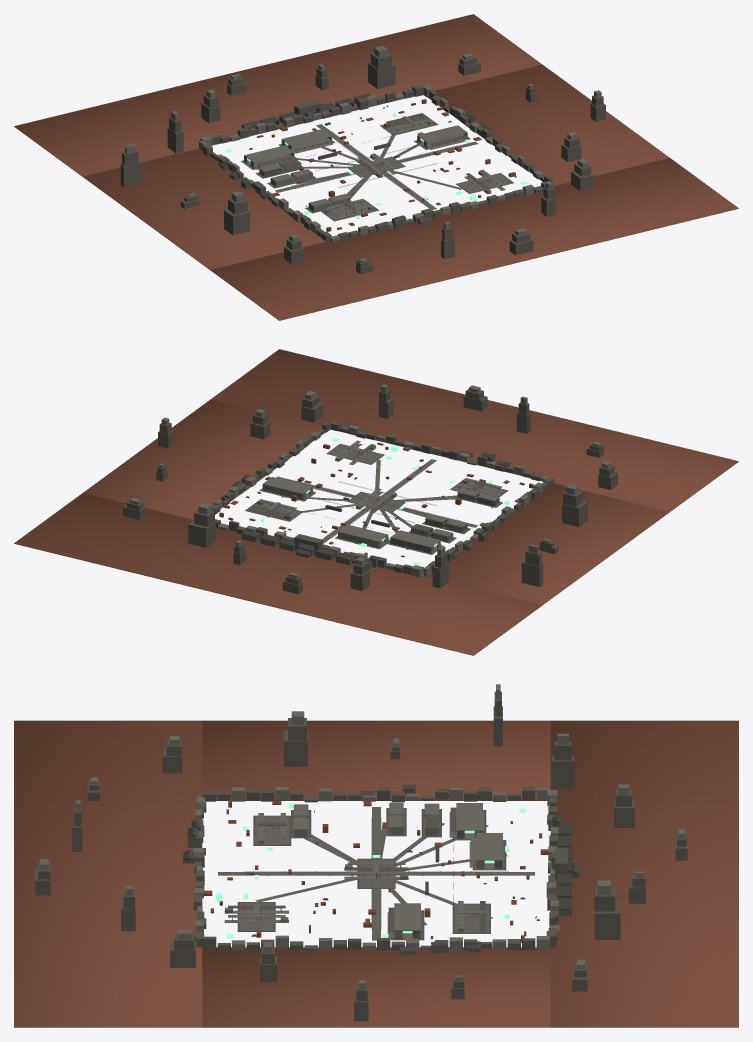
File: haieki-lod1.glb
3 renders of one model, top to bottom at view 1: azimuth 30°, elevation 25°; view 2: azimuth 150°, elevation 25°; view 3: azimuth 270°, elevation 25°, orthographic. The views are drawn at different scales.
Visible parts, largest first — view 1: HB_haieki_LOD1_terrain, HB_haieki_LOD1_wall_alt, HB_haieki_LOD1_wall, HB_haieki_LOD1_road, HB_haieki_LOD1_trim, HB_haieki_LOD1_obstacle; view 2: HB_haieki_LOD1_terrain, HB_haieki_LOD1_wall_alt, HB_haieki_LOD1_wall, HB_haieki_LOD1_road, HB_haieki_LOD1_trim, HB_haieki_LOD1_obstacle, HB_haieki_LOD1_glass; view 3: HB_haieki_LOD1_terrain, HB_haieki_LOD1_wall_alt, HB_haieki_LOD1_wall, HB_haieki_LOD1_road, HB_haieki_LOD1_trim, HB_haieki_LOD1_obstacle.
Part boxes in pixels (x1,y1,x2,y2): HB_haieki_LOD1_terrain: (14,14,738,320); HB_haieki_LOD1_wall_alt: (120,52,605,274); HB_haieki_LOD1_wall: (125,45,601,262); HB_haieki_LOD1_road: (241,115,512,221); HB_haieki_LOD1_trim: (219,93,515,226); HB_haieki_LOD1_obstacle: (249,99,516,231); HB_haieki_LOD1_terrain: (14,349,738,655); HB_haieki_LOD1_wall_alt: (123,389,617,594); HB_haieki_LOD1_wall: (129,384,611,578); HB_haieki_LOD1_road: (247,444,508,554); HB_haieki_LOD1_trim: (220,451,509,564); HB_haieki_LOD1_obstacle: (219,442,533,557); HB_haieki_LOD1_glass: (262,458,506,557); HB_haieki_LOD1_terrain: (14,720,738,1027); HB_haieki_LOD1_wall_alt: (35,691,687,1021); HB_haieki_LOD1_wall: (40,684,684,989); HB_haieki_LOD1_road: (218,807,534,940); HB_haieki_LOD1_trim: (182,785,579,954); HB_haieki_LOD1_obstacle: (204,800,548,946).
Size of the model in its own units: 654 by 52.9 by 654.
Materials: 9 (7 with a texture image).
